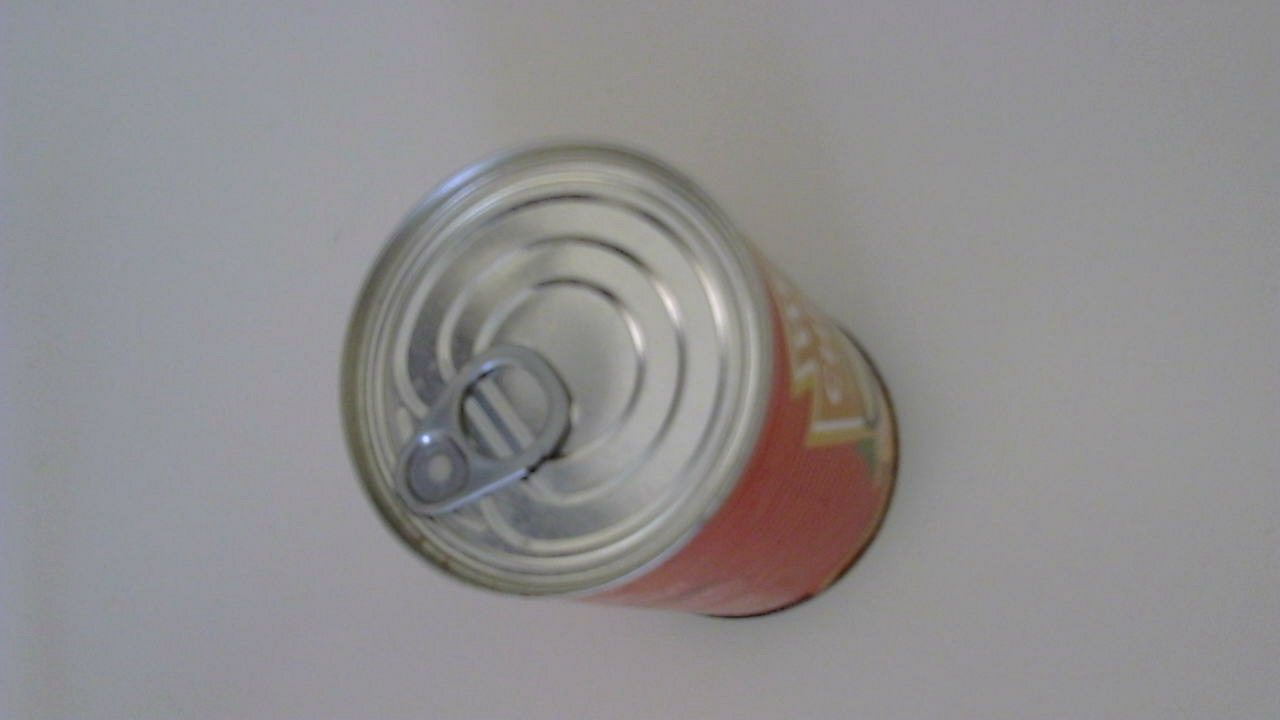Metal Tin: (337, 143, 914, 632)
